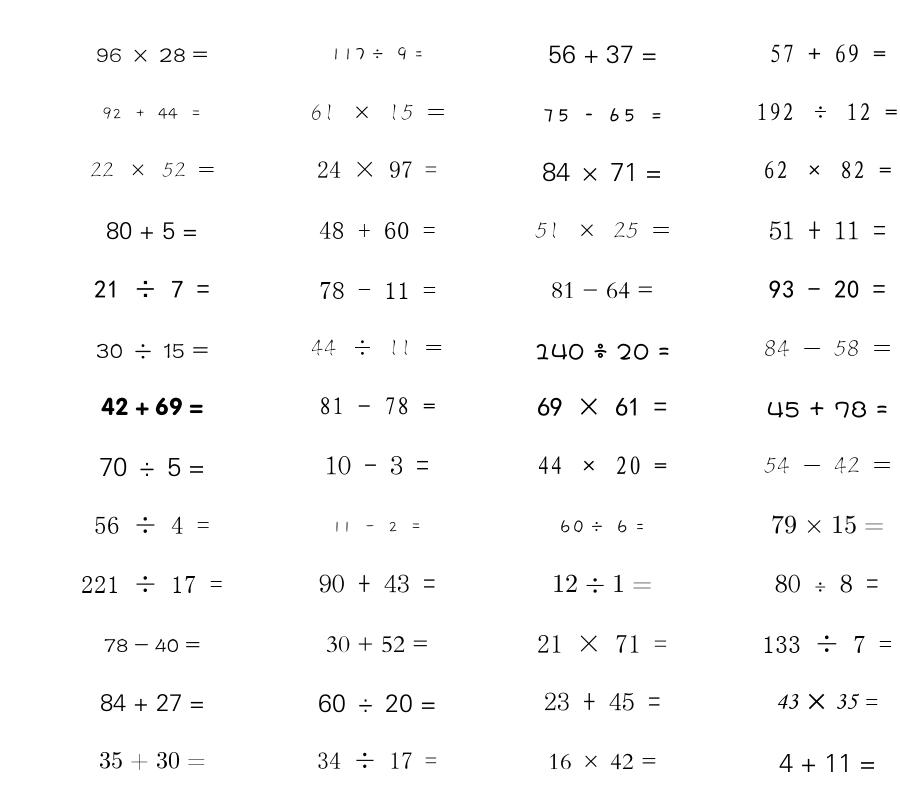MQ: (756, 103, 898, 121), (81, 575, 223, 593), (537, 397, 667, 416), (537, 456, 667, 475), (537, 634, 667, 653), (542, 162, 662, 182), (762, 635, 892, 653), (763, 161, 892, 179), (534, 343, 670, 360), (310, 104, 445, 121), (535, 222, 670, 239), (764, 339, 891, 357), (764, 456, 891, 474), (311, 339, 443, 356), (318, 694, 436, 713), (769, 44, 886, 63), (769, 221, 886, 240), (769, 280, 886, 299), (319, 574, 436, 593), (544, 692, 661, 711), (771, 515, 884, 534), (99, 457, 205, 477), (319, 221, 436, 239), (319, 397, 436, 415), (94, 280, 210, 298), (94, 516, 210, 534), (325, 455, 429, 475), (548, 45, 657, 64), (767, 401, 888, 418), (317, 161, 437, 178), (317, 752, 437, 769), (99, 751, 206, 770), (319, 282, 436, 299), (775, 574, 879, 593), (101, 397, 203, 416), (552, 574, 652, 593), (100, 694, 205, 712), (90, 162, 215, 177), (548, 753, 657, 770), (96, 343, 209, 359), (551, 282, 654, 299), (326, 636, 429, 653), (779, 754, 876, 772), (776, 693, 878, 710), (542, 108, 663, 122), (106, 222, 198, 240), (96, 48, 208, 62), (104, 638, 200, 653), (330, 47, 424, 61), (102, 107, 202, 120), (559, 520, 645, 534), (332, 521, 422, 533)
